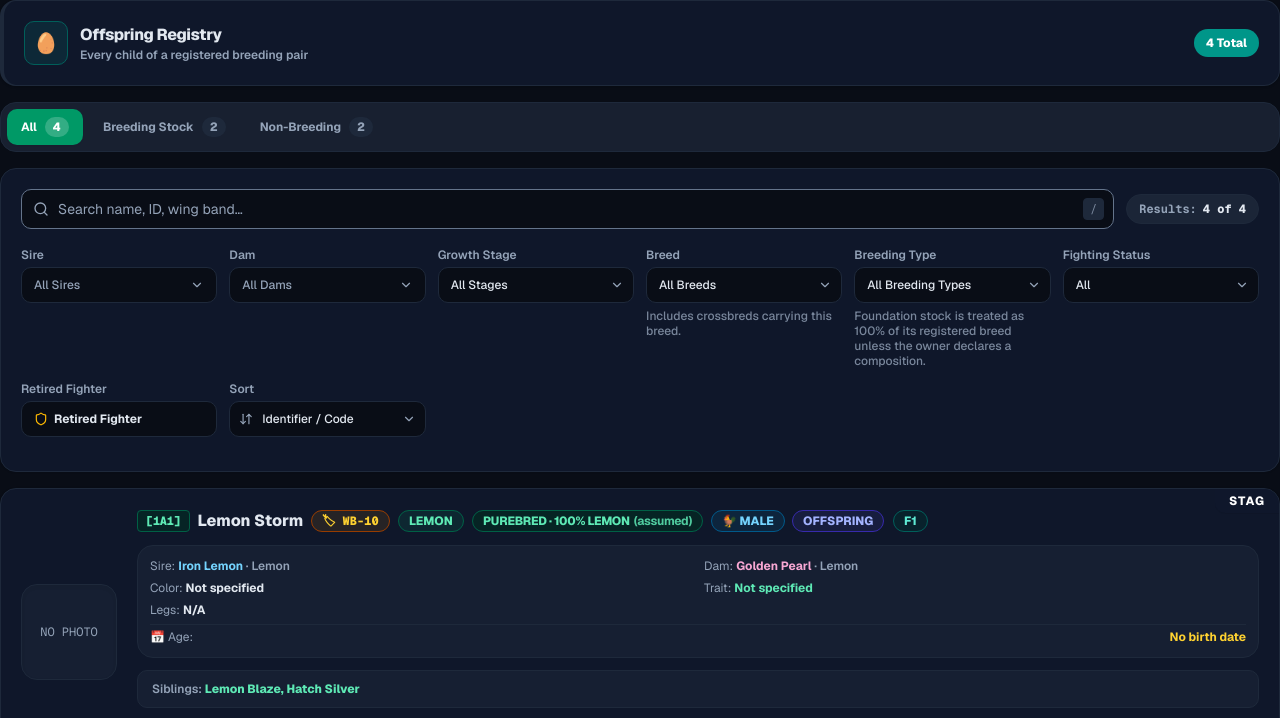
Offspring Breeding Classification & Fighting Status Registry › combines classification pill, fighting status filter, and search simultaneously
Search for "Storm"
Type "Storm" into the search field named "Search Registry" at (568, 209), box [21, 189, 1114, 229]
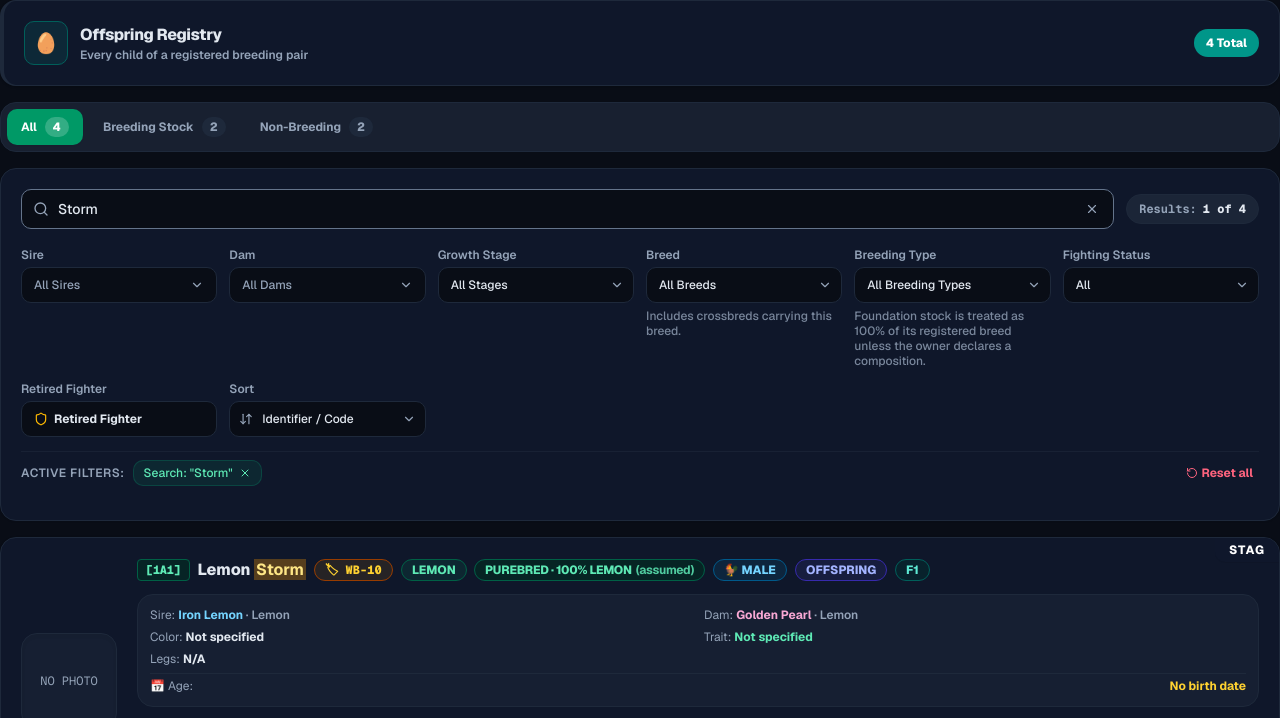
Expected: the heading "[1A1] Lemon Storm" is shown, [137, 558, 306, 582]
Expected: the text "1 of 4" is shown, [1203, 201, 1246, 217]
Select "No Fight Record" in the dropdown labelled "Fighting Status" at (1161, 285), box [1063, 267, 1259, 303]
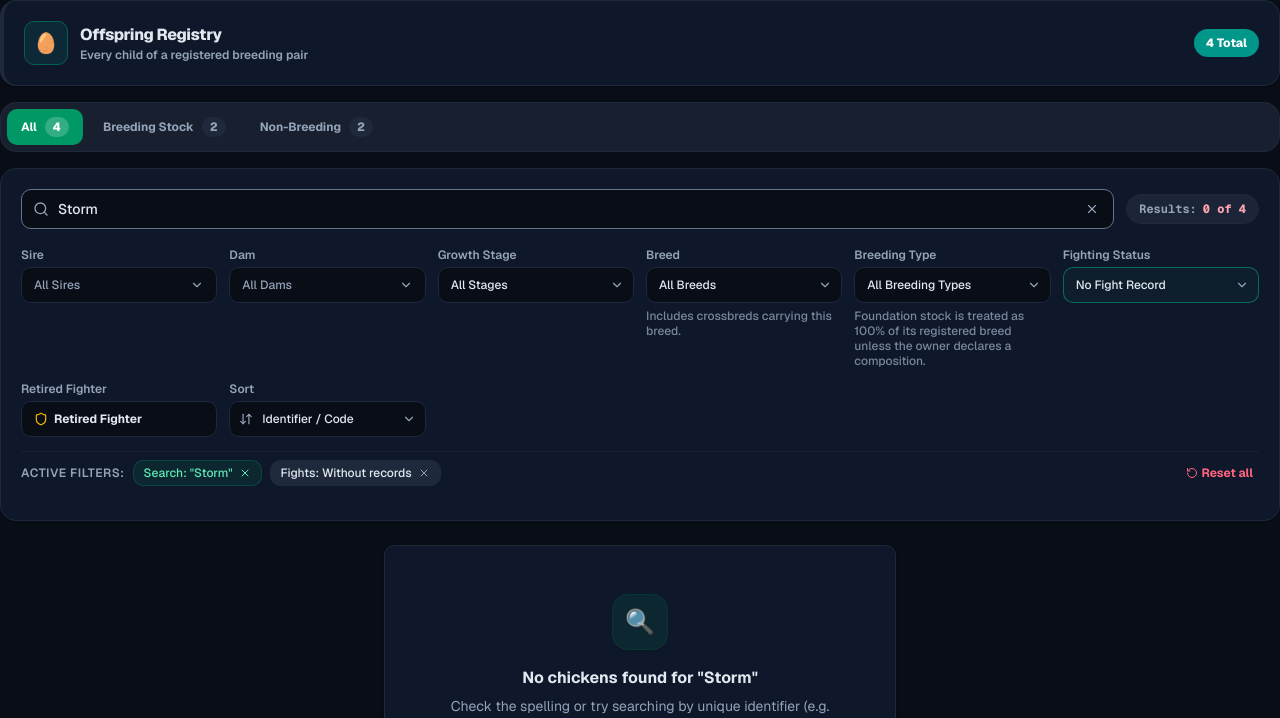
Expected: the heading "No chickens found for \"Storm\"" is shown, [522, 667, 758, 688]
